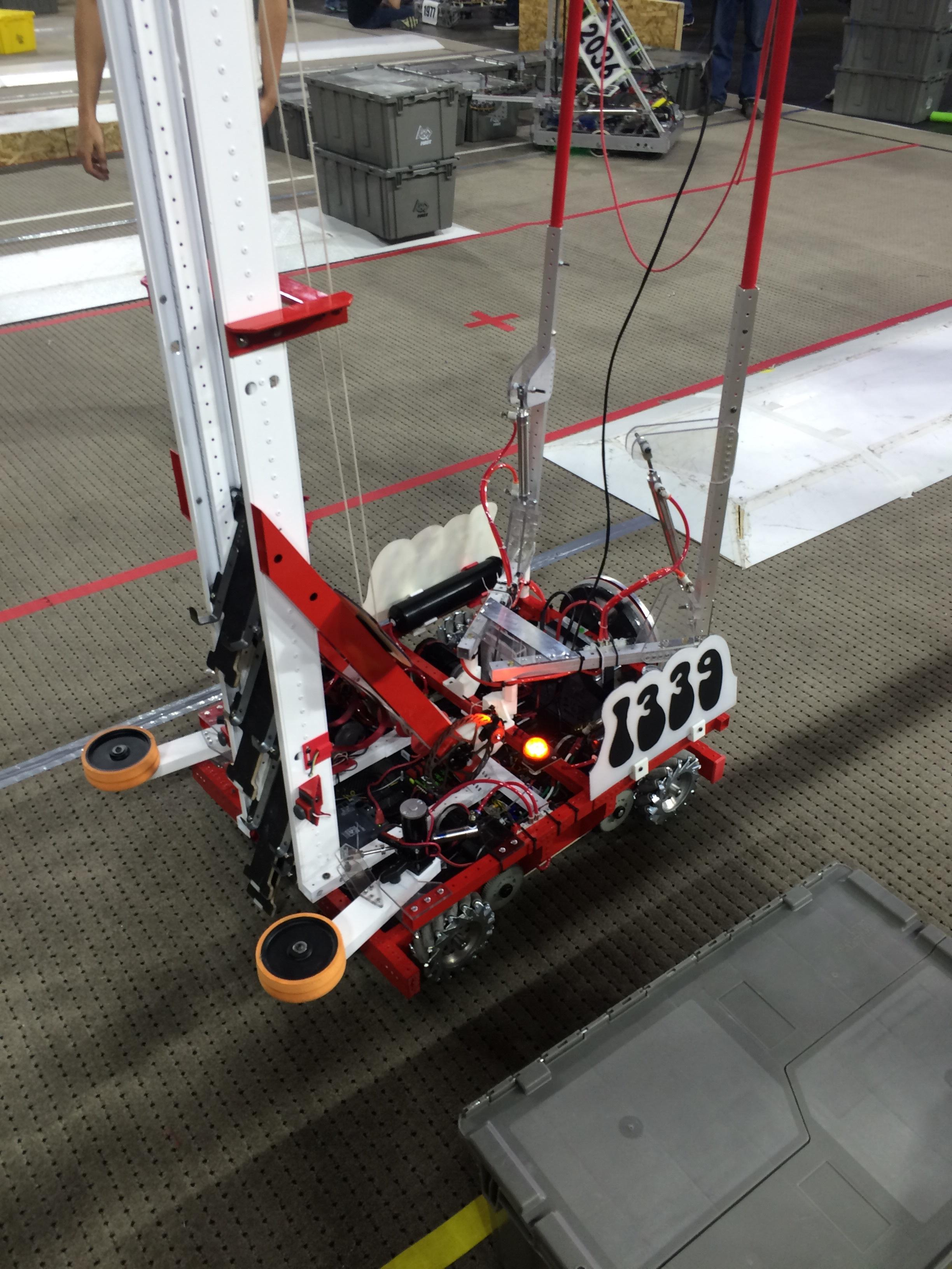robot: (75, 0, 825, 1031)
